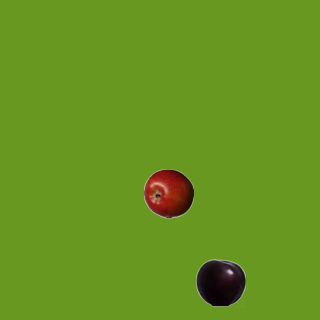Apple Braeburn: (143, 168, 193, 218)
Cherry Wax Black: (195, 257, 245, 307)
